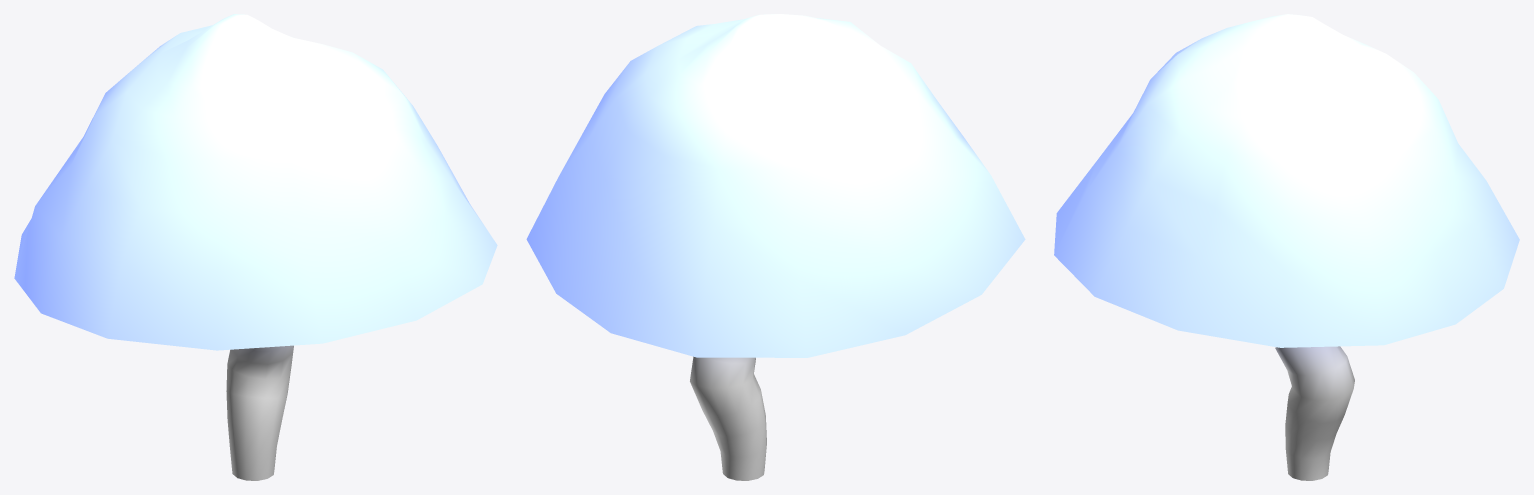
File: mushroom_7.glb
3 renders of one model, left to right at view 1: azimuth 30°, elevation 25°; view 2: azimuth 150°, elevation 25°; view 3: azimuth 270°, elevation 25°, orthographic. The views are drawn at different scales.
Visible parts, largest first — view 1: geo1; view 2: geo1; view 3: geo1.
Boxes of the visible parts, x1=… form: geo1: x1=14, y1=14, x2=497, y2=480; geo1: x1=526, y1=14, x2=1025, y2=480; geo1: x1=1054, y1=14, x2=1519, y2=480.
Size of the model in its own units: 0.2311 by 0.2373 by 0.2251.
